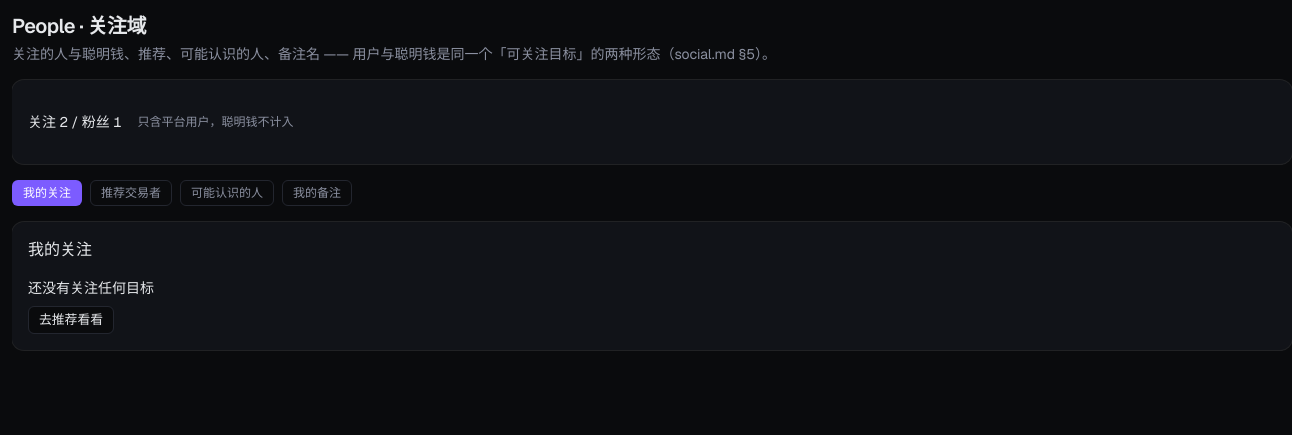
Test case: PeopleView 我的备注（§5.2） › 清除 = setRemark 空串并移除行；聪明钱行无跳转链接
The width and height of the screenshot is (1292, 435).
Click the button "我的备注".
click(317, 193)  # box [282,180,352,206]
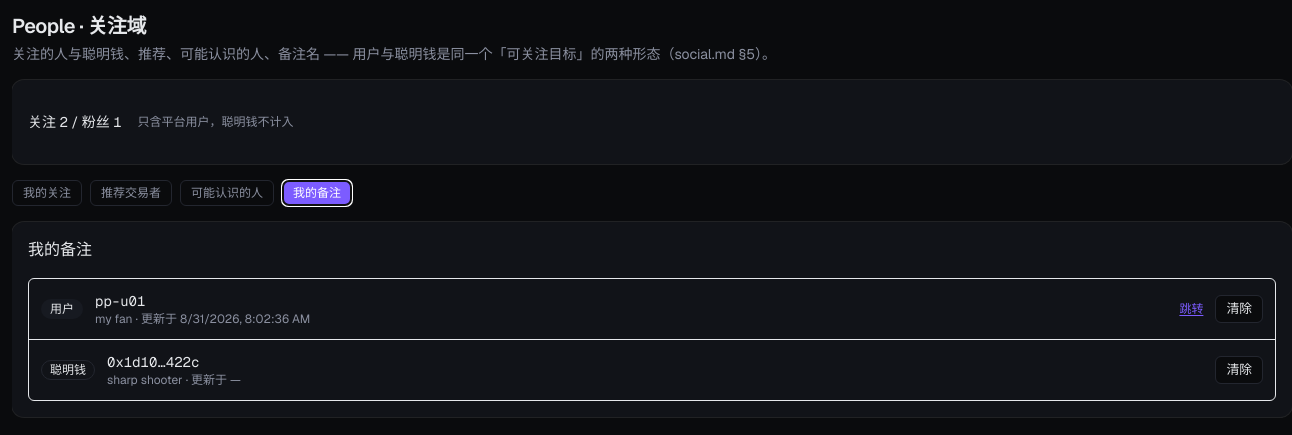
Result: the text "my fan · 更新于 8/31/2026, 8:02:36 AM" is shown at [95,311,310,327]
Result: the link "跳转" is shown at [1179,301,1203,317]
Click the button "清除" next to "跳转".
click(1239, 309)  # box [1215,295,1263,323]
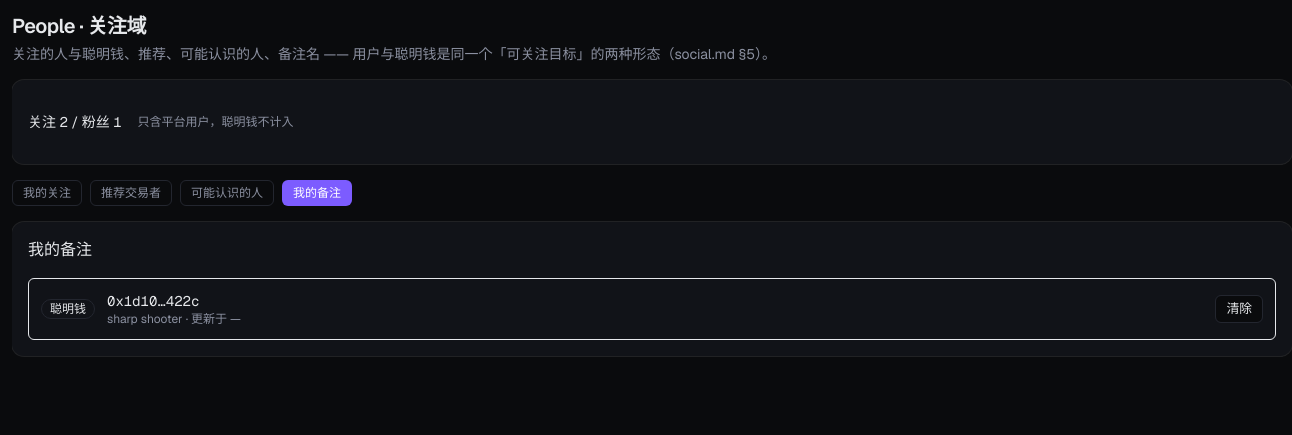
Result: the text "sharp shooter · 更新于 —" is shown at [107,311,241,327]
Result: the text "my fan" is gone
